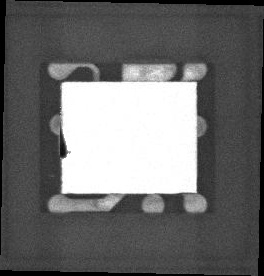DIE_BROKEN: (58, 128, 70, 161)
